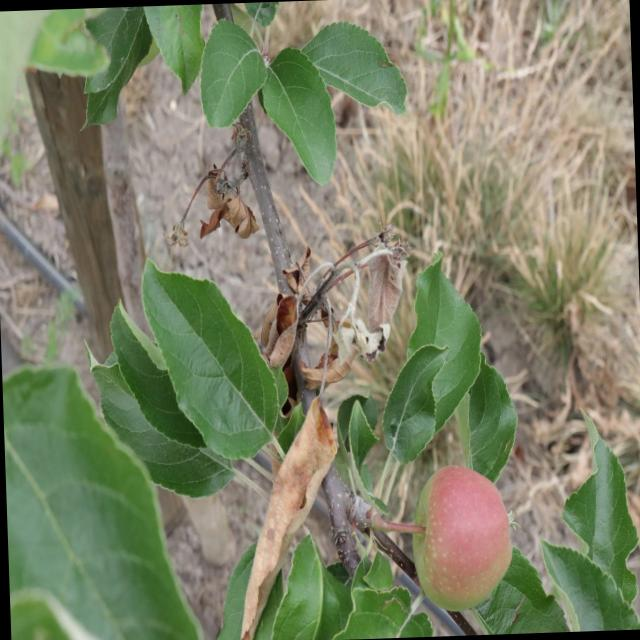-FireBlight-: (224, 378, 337, 640), (286, 232, 406, 390), (199, 156, 260, 244), (264, 278, 310, 378)
